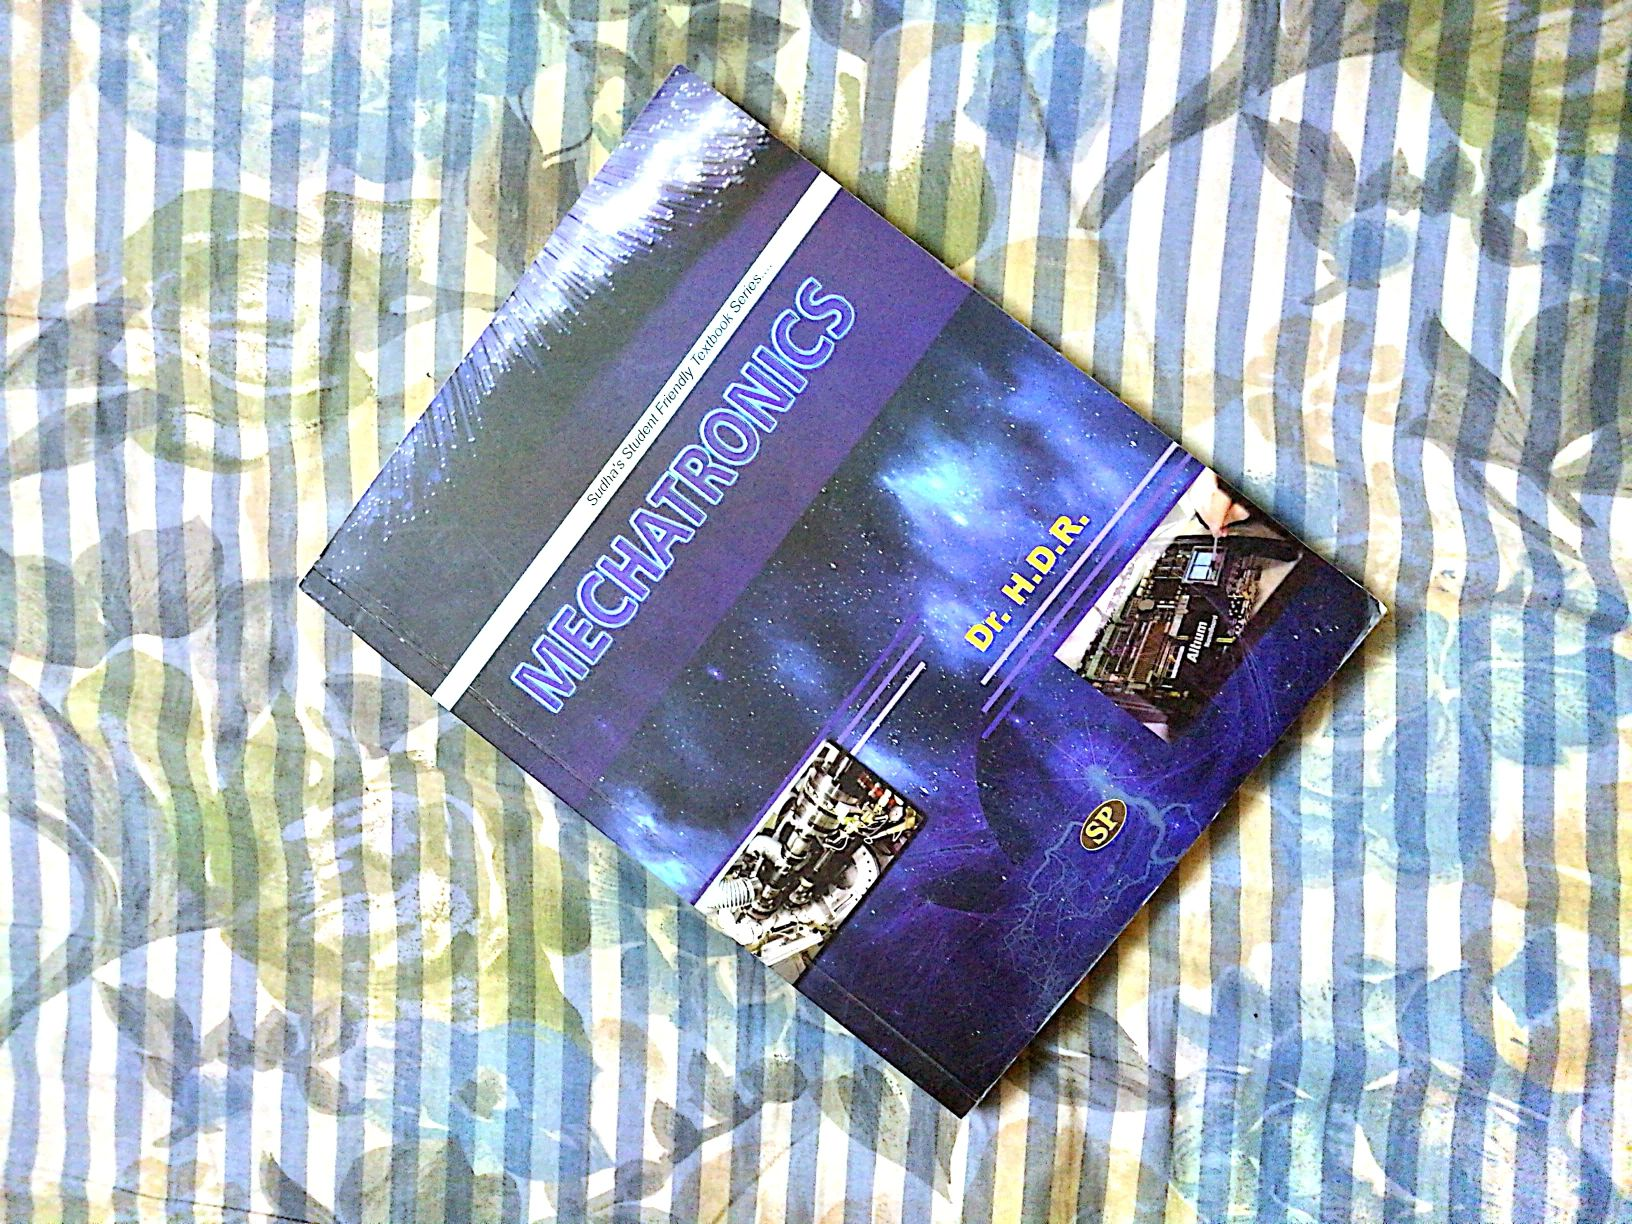mechatronics: (321, 27, 1394, 1065)
